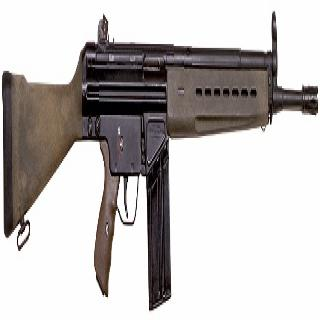gun: (0, 12, 318, 314)
